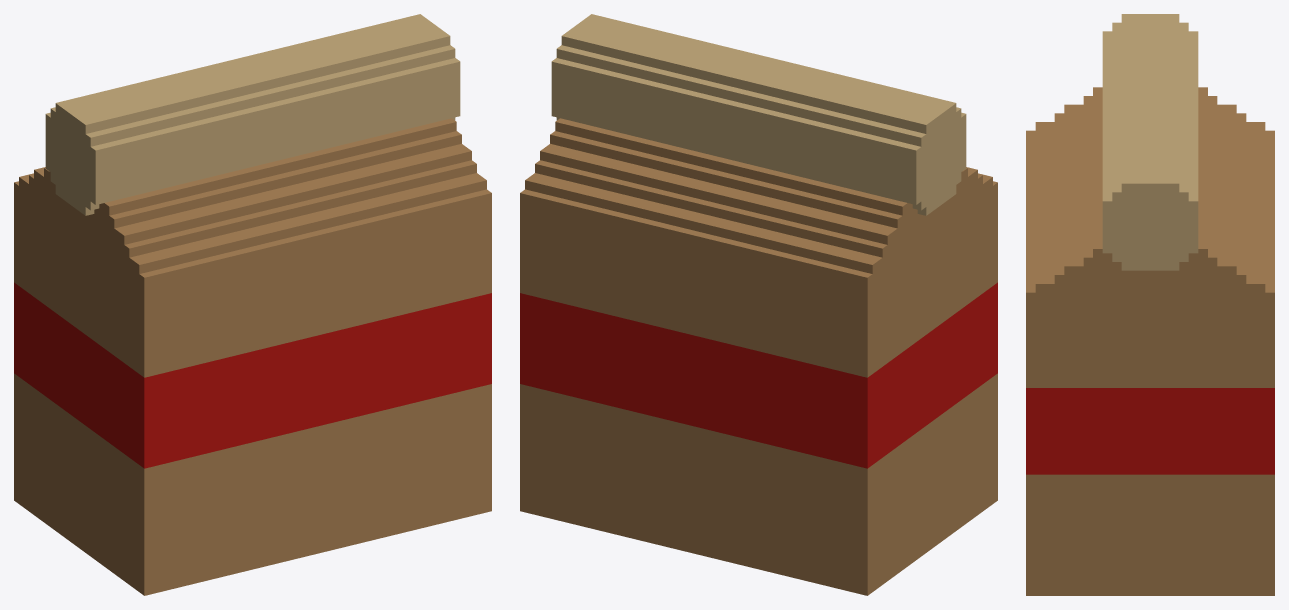
Rendered from concrete.glb.
3 views of the same model, side by side, from view 1: azimuth 30°, elevation 25°; view 2: azimuth 150°, elevation 25°; view 3: azimuth 270°, elevation 25° (orthographic). The views are drawn at different scales.
Visible parts, largest first — view 1: concrete:compound; view 2: concrete:compound; view 3: concrete:compound.
Boxes of the visible parts, box(x1,y1,x2,y2) form: concrete:compound: box(14, 14, 491, 595); concrete:compound: box(520, 14, 997, 595); concrete:compound: box(1026, 14, 1274, 595).
Size of the model in its own units: 0.084 by 0.096 by 0.052.
